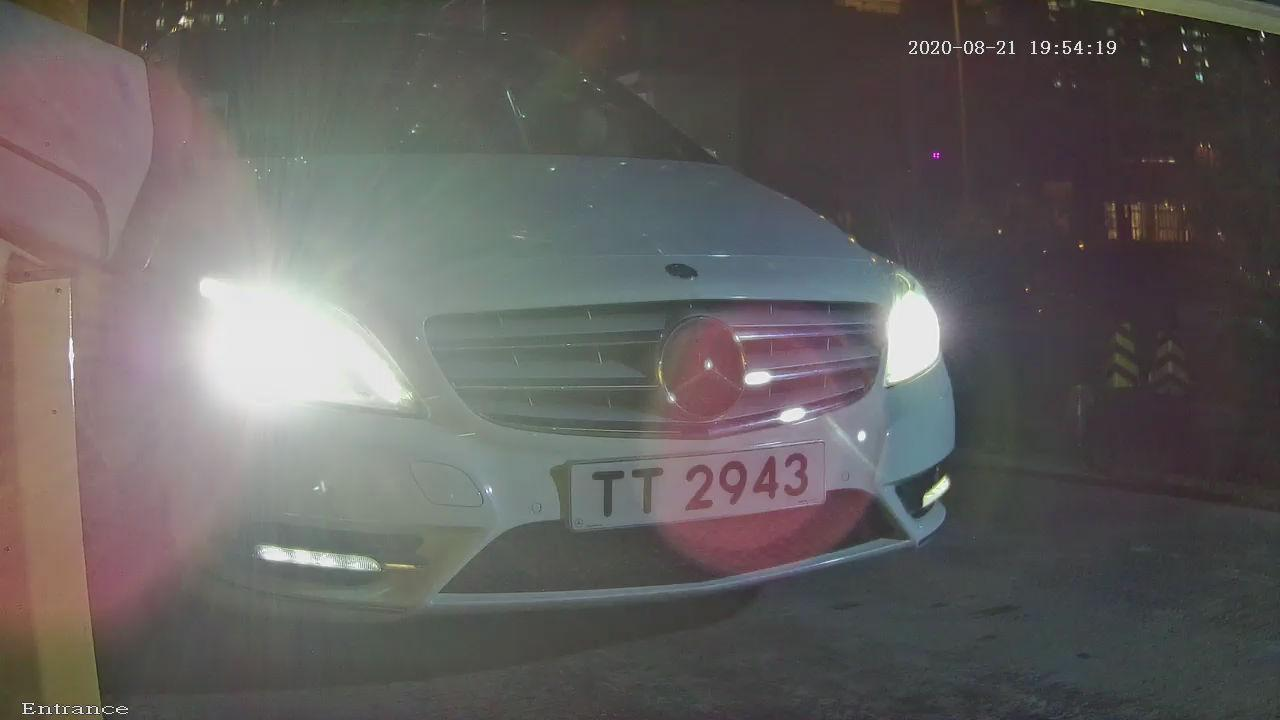Car: (1, 23, 1132, 679)
License Plate: (495, 381, 878, 584)
